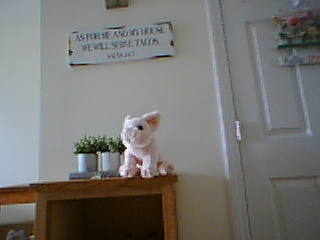piggy: (119, 110, 175, 179)
